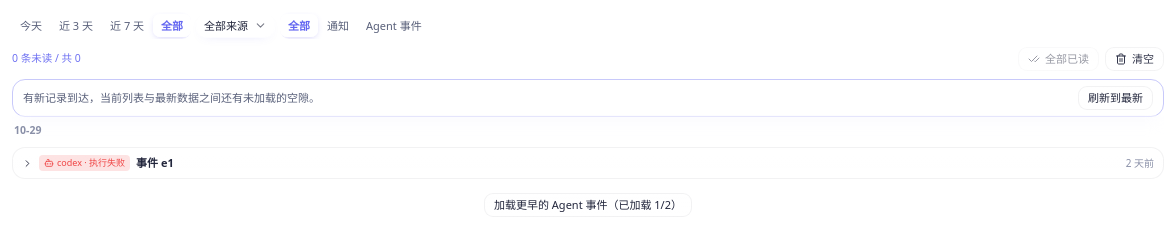
HistoryPanel 分页与刷新空隙 › 刷新页与已加载页不重叠时提示刷新，不合并出带缺口的时间轴
Expected: the text "有新记录到达，当前列表与最新数据之间还有未加载的空隙。" is shown, x1=23 y1=90 x2=320 y2=105
Expected: the text "事件 e1" is shown, x1=136 y1=155 x2=174 y2=170
Click the button "刷新到最新".
click(1116, 98)  # box x1=1078 y1=86 x2=1153 y2=110
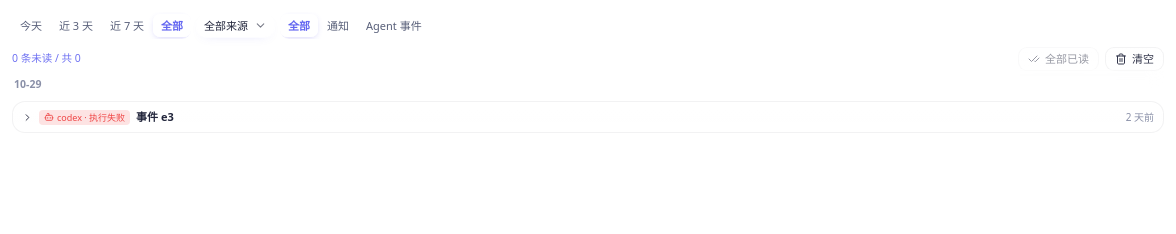
Expected: the text "事件 e3" is shown, x1=136 y1=109 x2=174 y2=124
Expected: the button "事件 e1" is gone
Expected: the text "未加载的空隙" is gone
